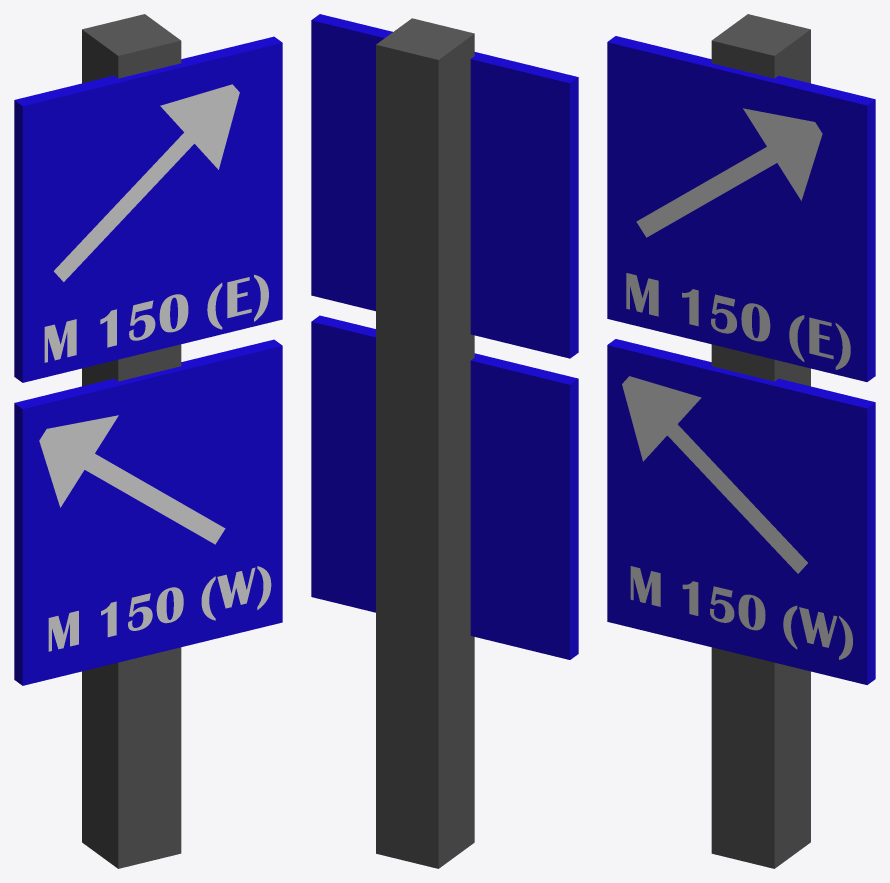
File: JCT1ExitSignBM105.fbx
3 renders of one model, left to right at view 1: azimuth 30°, elevation 25°; view 2: azimuth 150°, elevation 25°; view 3: azimuth 330°, elevation 25°, orthographic.
Visible parts, largest first — view 1: ExitSign, ExitSign.001, JCT1ExitSign, ExitArrow.001, ExitArrow, JCT1ExitSignA.001, JCT1ExitSignA; view 2: JCT1ExitSign, ExitSign.001, ExitSign; view 3: ExitSign, ExitSign.001, JCT1ExitSign, ExitArrow.001, ExitArrow, JCT1ExitSignA.001, JCT1ExitSignA.
Boxes of the visible parts, x1,y1,x2,y2 form: ExitSign: (14,339,282,685); ExitSign.001: (14,36,282,382); JCT1ExitSign: (82,14,181,868); ExitArrow.001: (54,84,239,281); ExitArrow: (39,415,225,544); JCT1ExitSignA.001: (44,274,268,362); JCT1ExitSignA: (48,566,271,651); JCT1ExitSign: (376,18,474,868); ExitSign.001: (311,14,578,358); ExitSign: (311,315,578,659); ExitSign: (607,339,875,684); ExitSign.001: (607,36,875,381); JCT1ExitSign: (711,14,810,868); ExitArrow.001: (636,108,822,237); ExitArrow: (622,376,807,573); JCT1ExitSignA.001: (626,273,850,369); JCT1ExitSignA: (630,566,852,659).
Bounding box in the file's own units: 373 × 1115 × 105.
